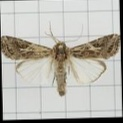Spodoptera litura: (1, 20, 120, 96)
